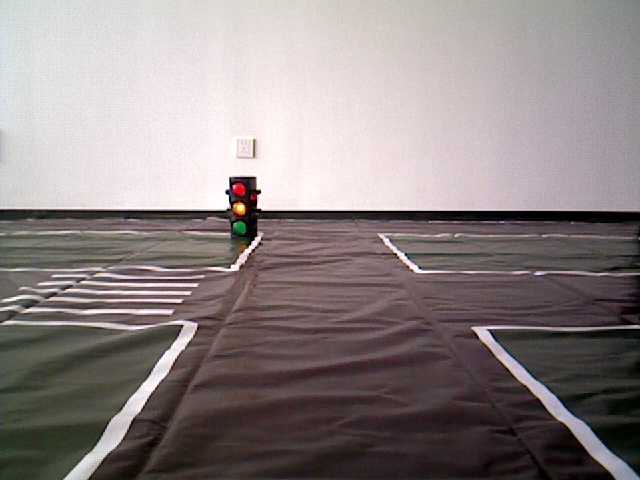yellow: (229, 173, 255, 242)
